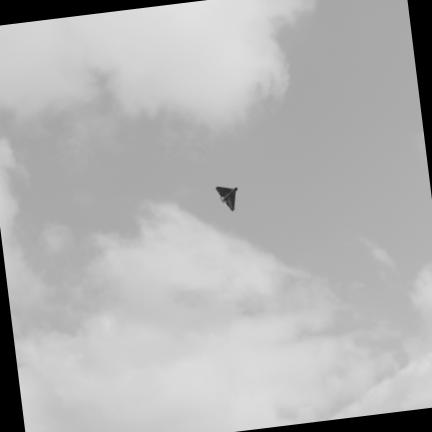Shahed: (216, 187, 236, 210)
